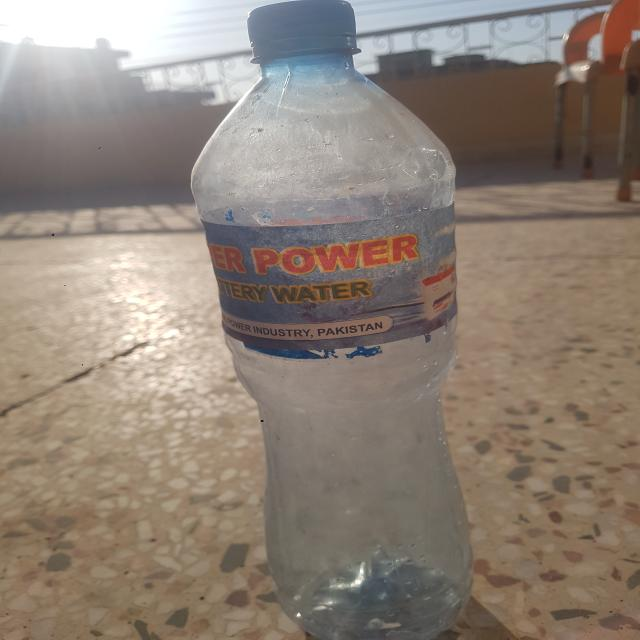general: (188, 2, 476, 639)
